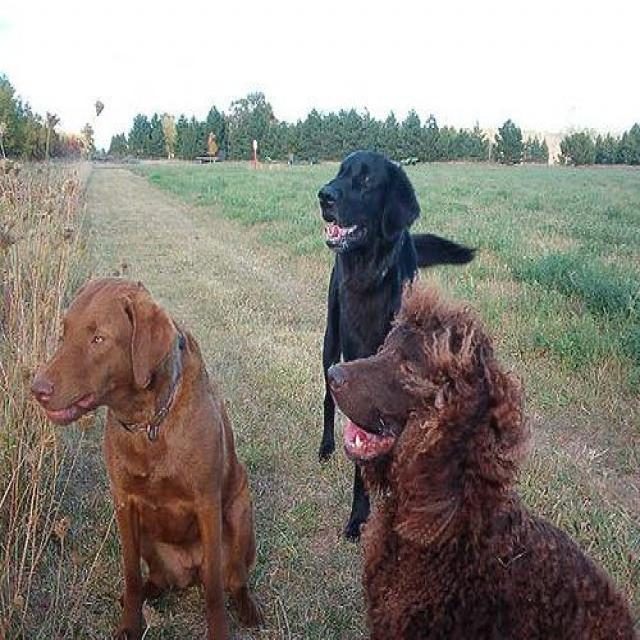sitting: (321, 286, 639, 640), (31, 265, 276, 640)
